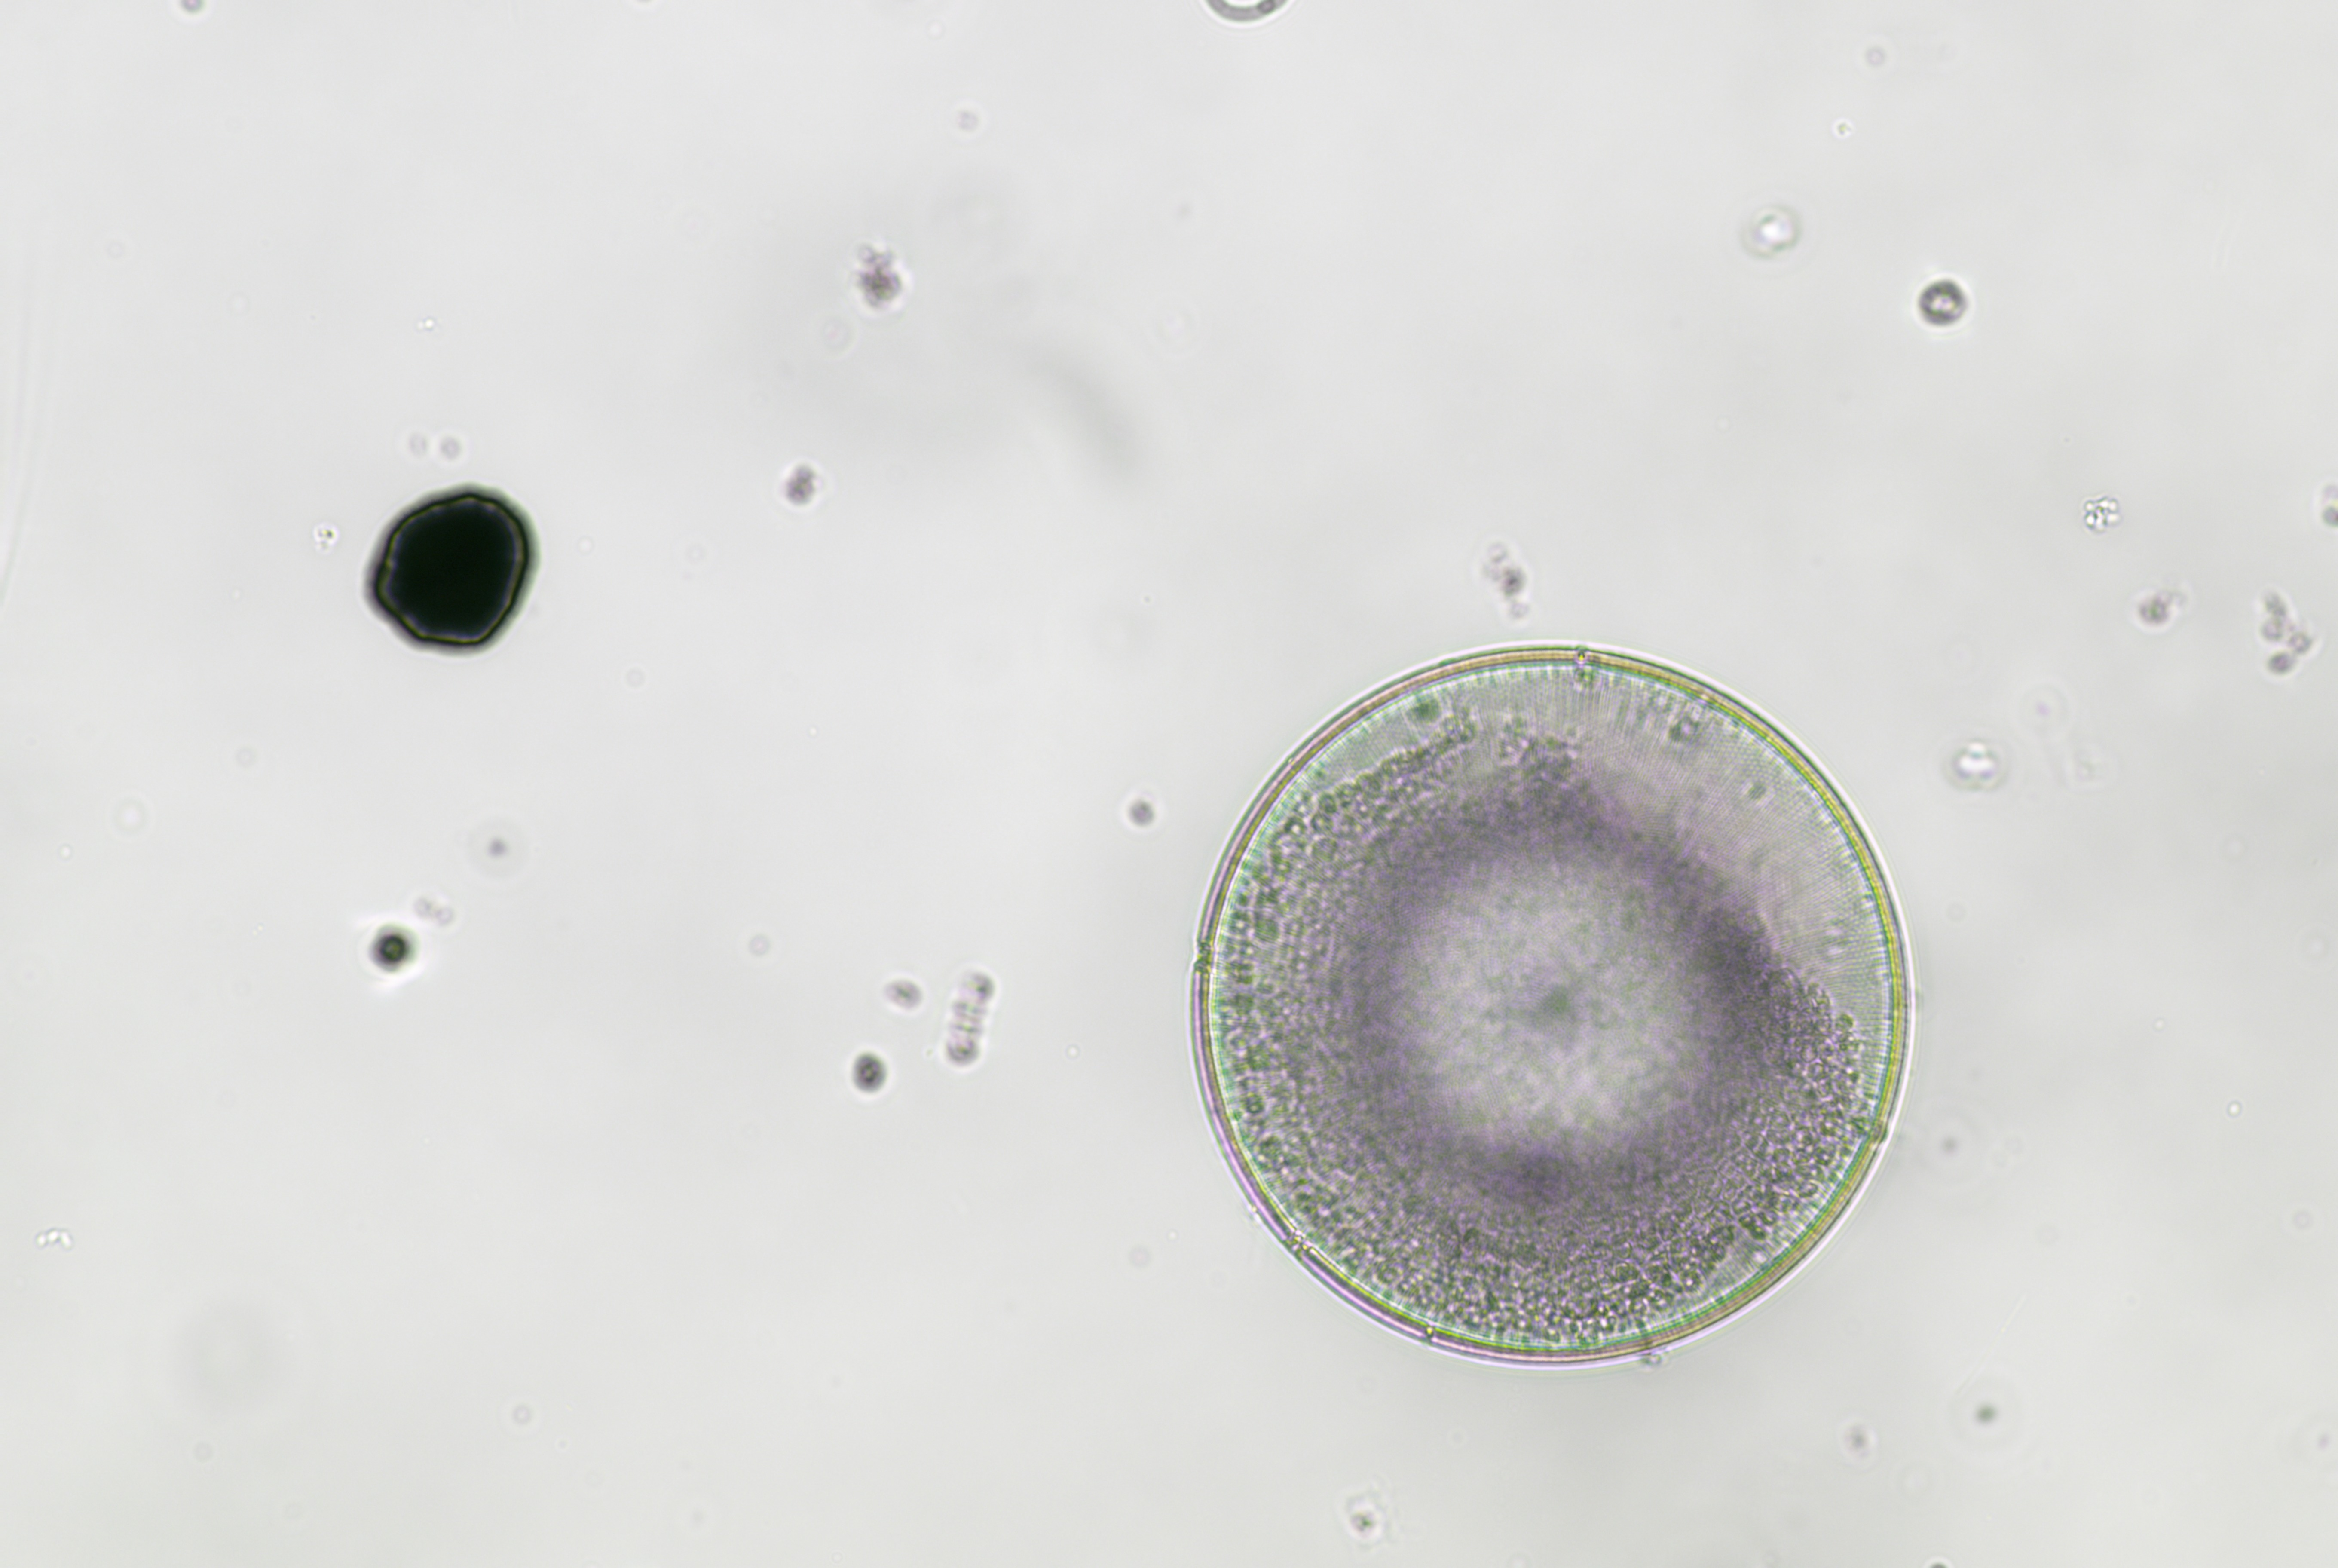coscinodiscus: (1174, 642, 1937, 1372)
